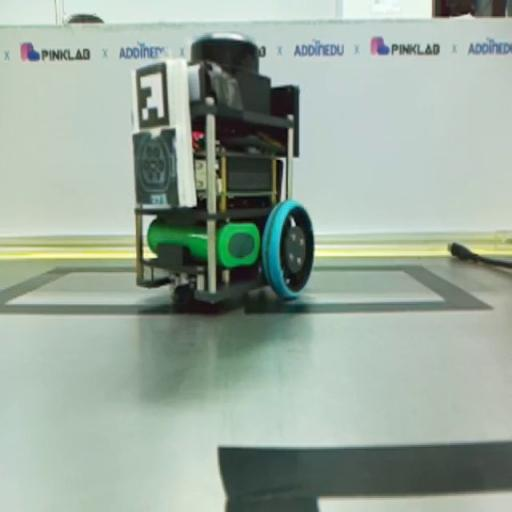pinky_63: (131, 32, 314, 306)
